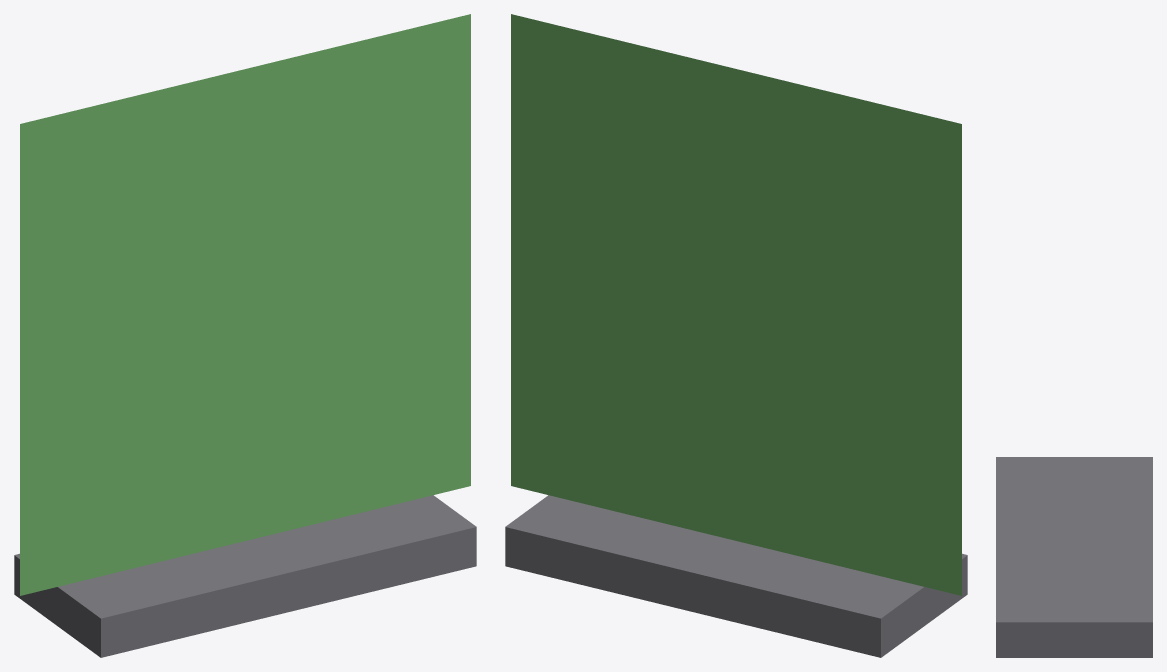
The model's file is pbr_mask.gltf.
The picture shows the model from 3 angles, left to right: view 1: azimuth 30°, elevation 25°; view 2: azimuth 150°, elevation 25°; view 3: azimuth 270°, elevation 25°; orthographic projection. The views are drawn at different scales.
Parts seen in each view (by area): view 1: grille, stand; view 2: grille, stand; view 3: stand.
Boxes of the visible parts, x1=… form: grille: x1=20, y1=14, x2=470, y2=595; stand: x1=14, y1=495, x2=476, y2=657; grille: x1=511, y1=14, x2=961, y2=595; stand: x1=505, y1=495, x2=967, y2=657; stand: x1=996, y1=457, x2=1152, y2=657.
Size of the model in its own units: 0.6 by 0.65 by 0.2.
2 materials, 1 textured.
